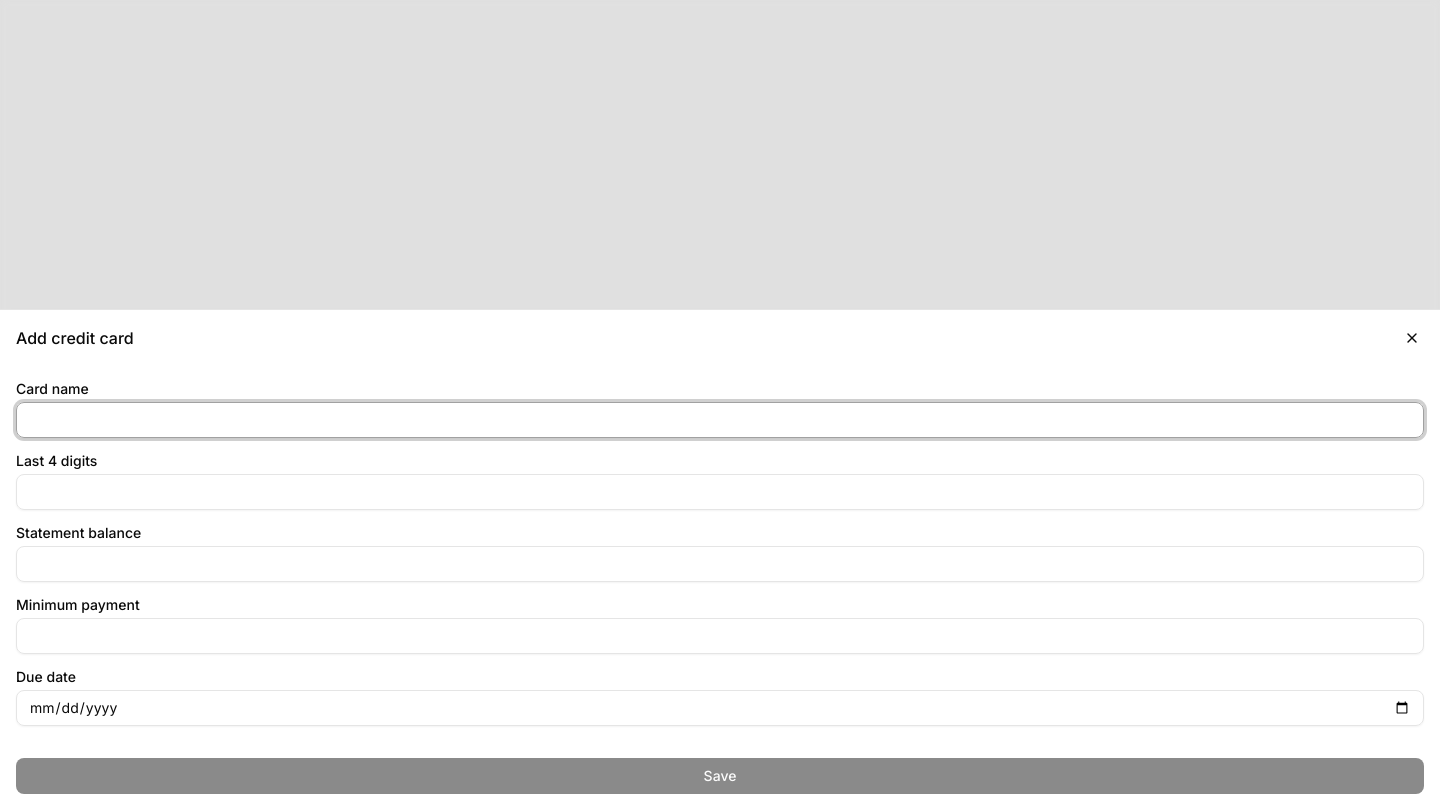
Test case: CardDueForm › disables save until required fields are filled
The image size is (1440, 810).
Check: the button "Save" is disabled, box x1=16 y1=758 x2=1424 y2=794
Step 1. Type "Visa Platinum" into the field labelled "Card name" → (720, 420), box x1=16 y1=402 x2=1424 y2=438
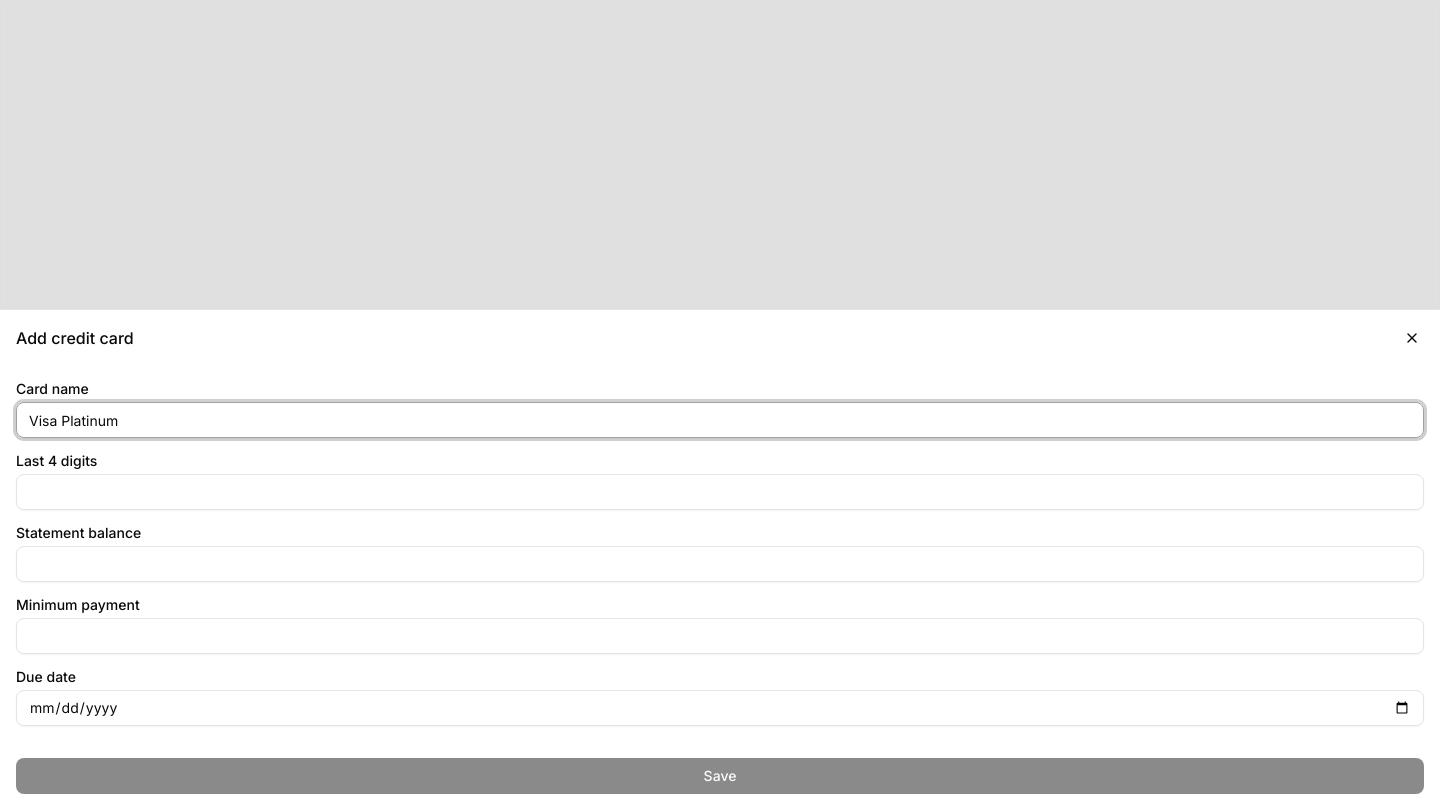
Step 2. Type "4821" into the field labelled "Last 4 digits" → (720, 492), box x1=16 y1=474 x2=1424 y2=510
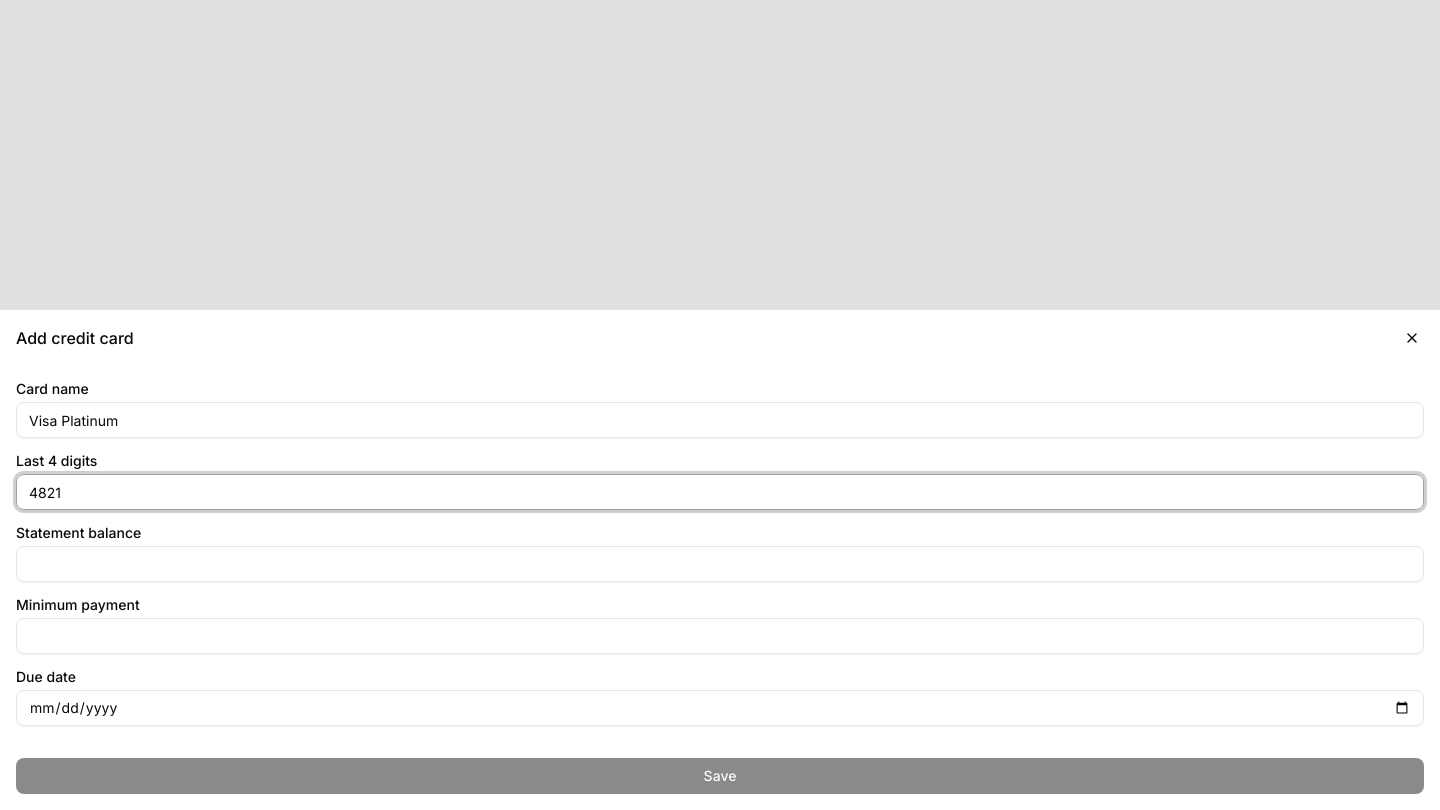
Step 3. Type "842.5" into the field labelled "Statement balance" → (720, 564), box x1=16 y1=546 x2=1424 y2=582
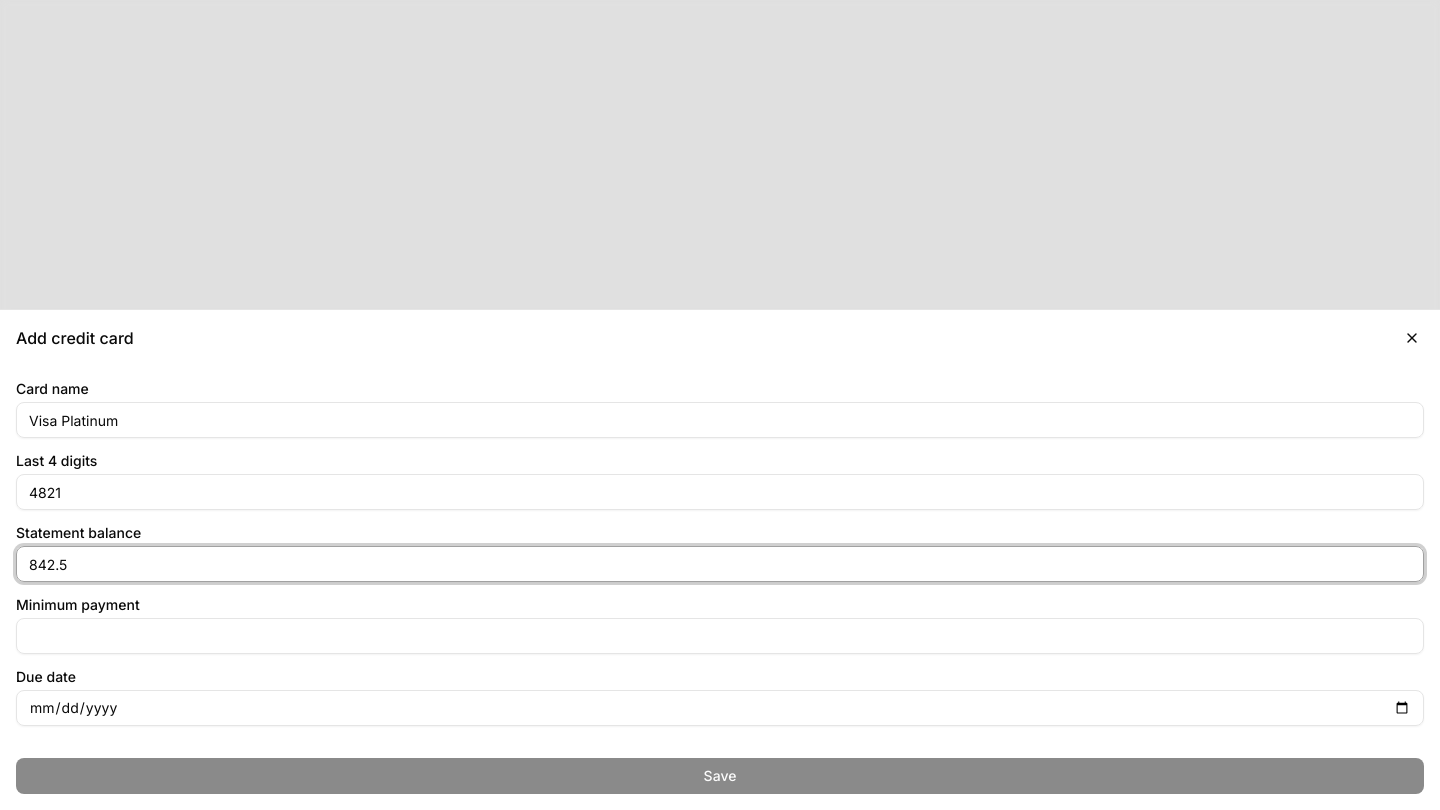
Step 4. Type "45" into the field labelled "Minimum payment" → (720, 636), box x1=16 y1=618 x2=1424 y2=654
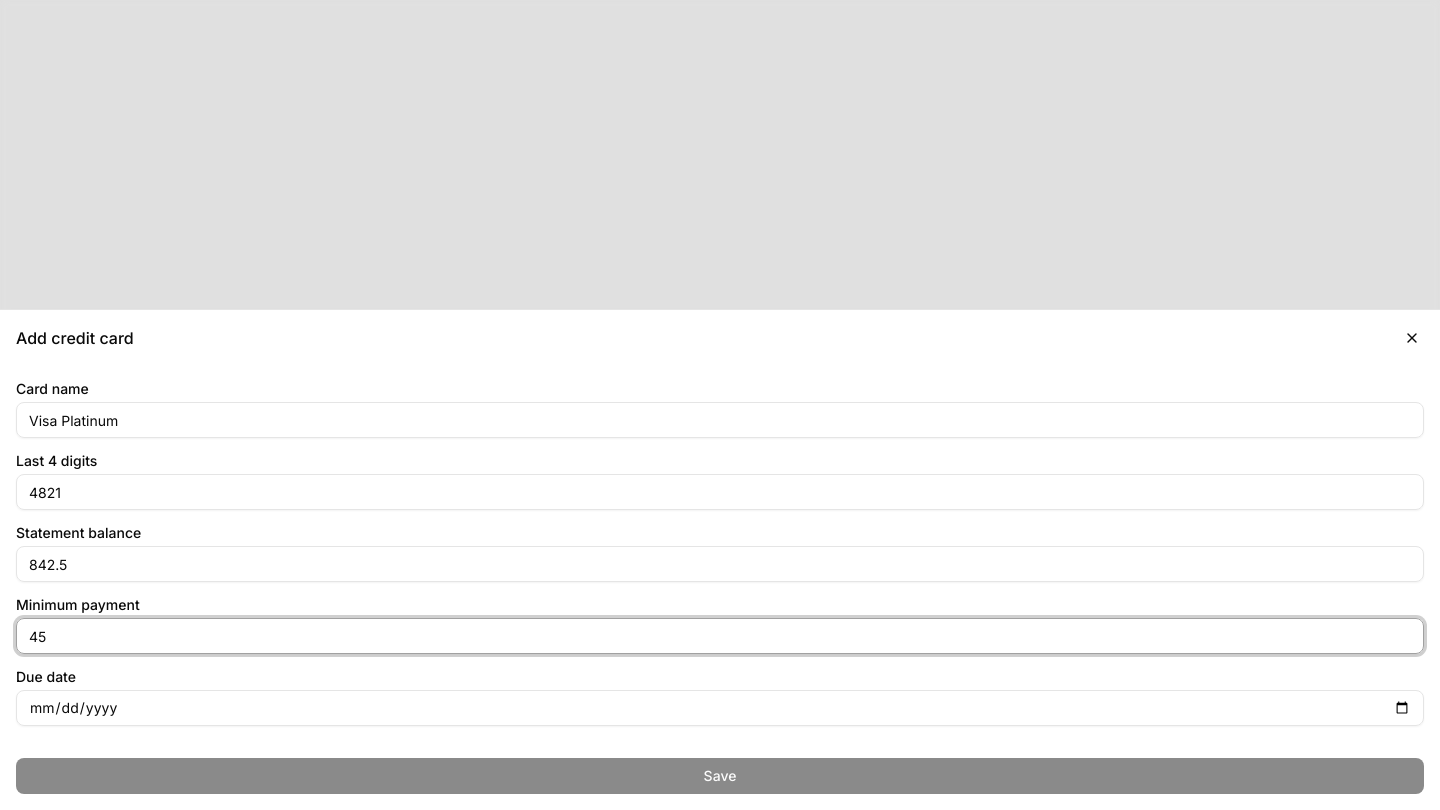
Step 5. Type "2026-08-16" into the date field labelled "Due date" → (720, 708), box x1=16 y1=690 x2=1424 y2=726
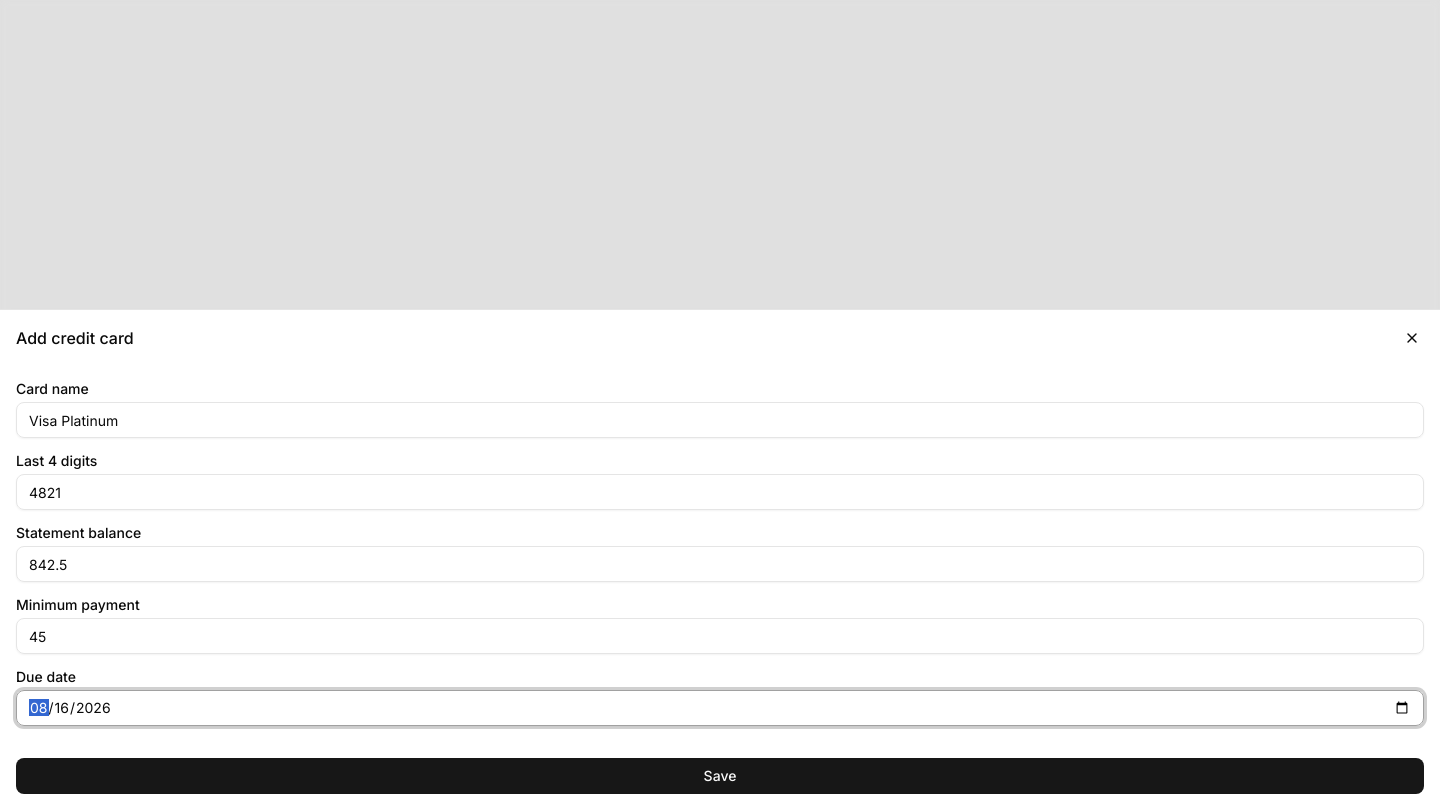
Check: the button "Save" is enabled, box x1=16 y1=758 x2=1424 y2=794
